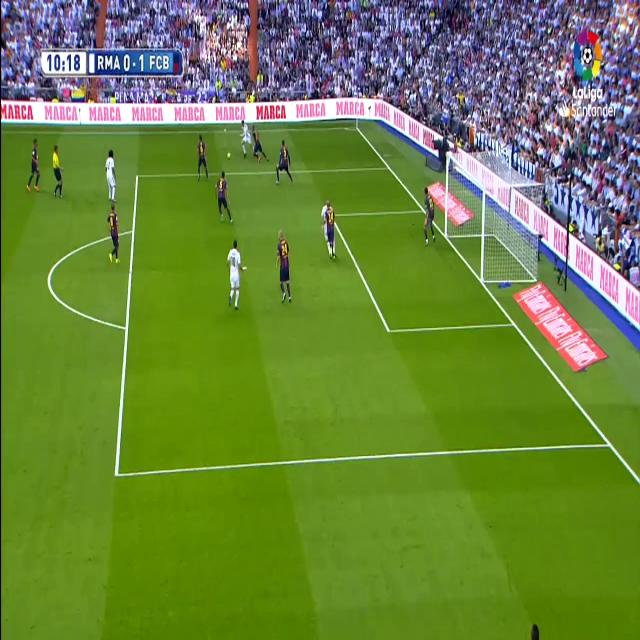bigarea_bottom_inner: (383, 315, 394, 342)
bigarea_top_outter: (385, 159, 392, 173)
bottom_arc_area_intersection: (604, 429, 616, 457)
corner: (351, 122, 360, 133)
smallarea_bottom_outter: (509, 312, 519, 333)
smallarea_top_outter: (420, 202, 426, 218)
